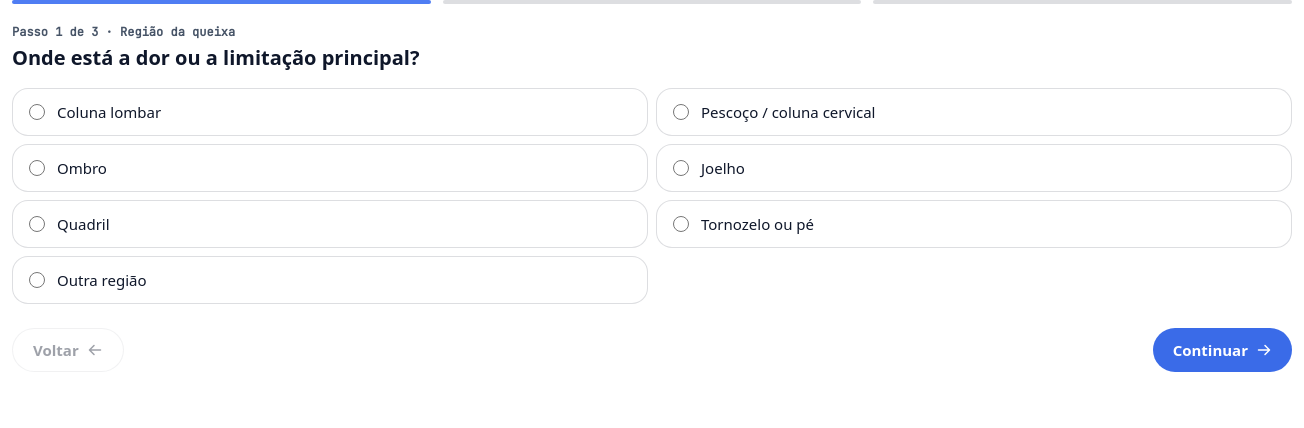
Scenario: <TriageFlow /> › percorre os 3 passos e monta o link do WhatsApp com o resumo
What coordinates should you click on to do the following:
click the radio button labelled "Joelho"
I would click on:
 (681, 168)
Its box is [673,160,689,176].
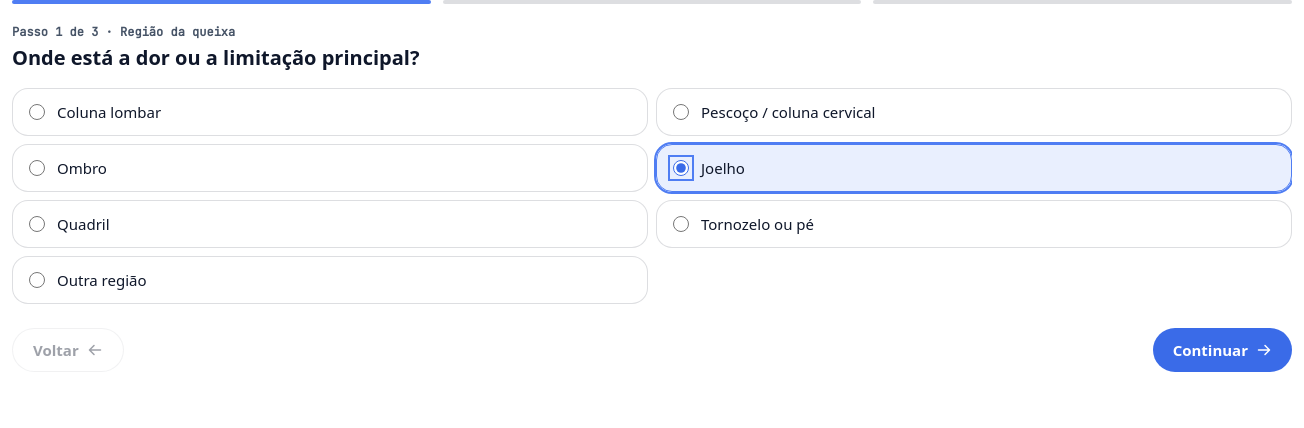
What coordinates should you click on to do the following:
click the button "Continuar"
I would click on:
 (1222, 350)
Its box is [1153,328,1292,372].
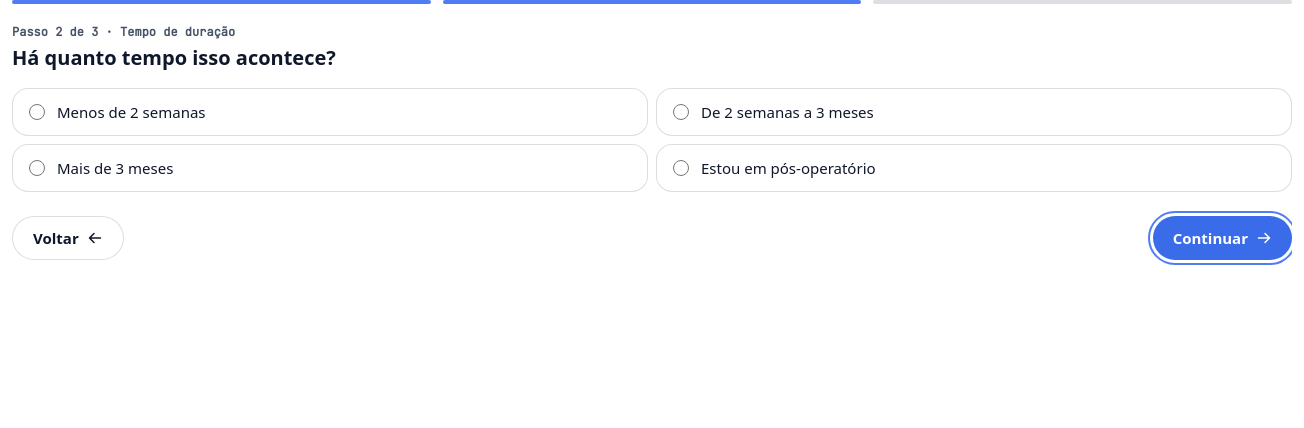
What coordinates should you click on to do the following:
click the radio button labelled "Estou em pós-operatório"
I would click on:
 (681, 168)
Its box is [673,160,689,176].
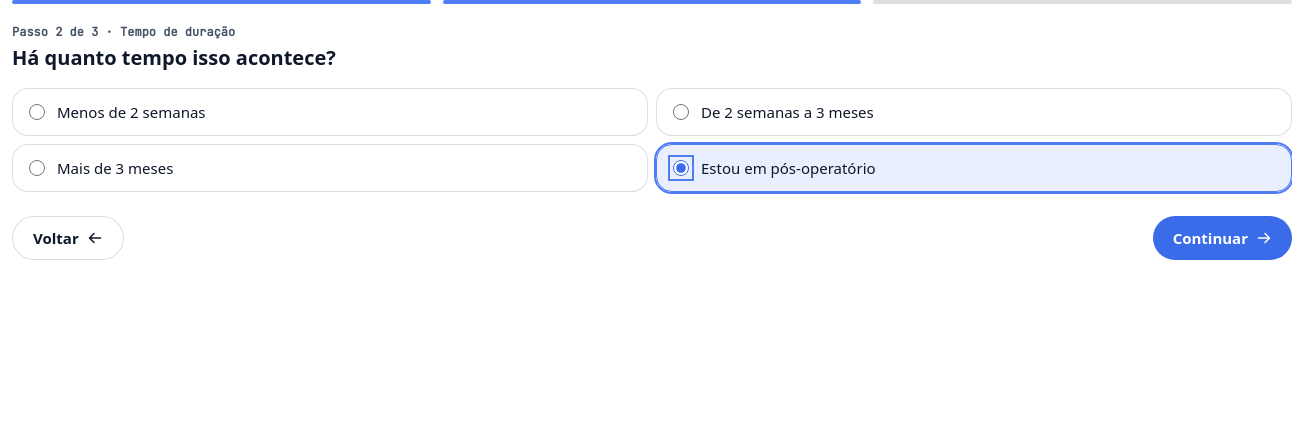
What coordinates should you click on to do the following:
click the button "Continuar"
I would click on:
 (1222, 238)
Its box is [1153,216,1292,260].
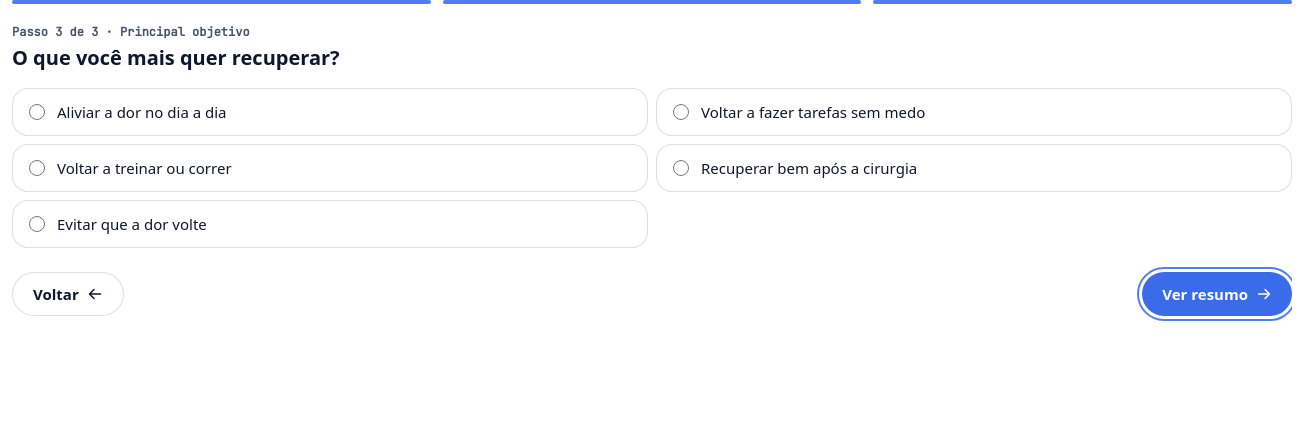
What coordinates should you click on to do the following:
click the radio button labelled "Recuperar bem após a cirurgia"
I would click on:
 (681, 168)
Its box is [673,160,689,176].
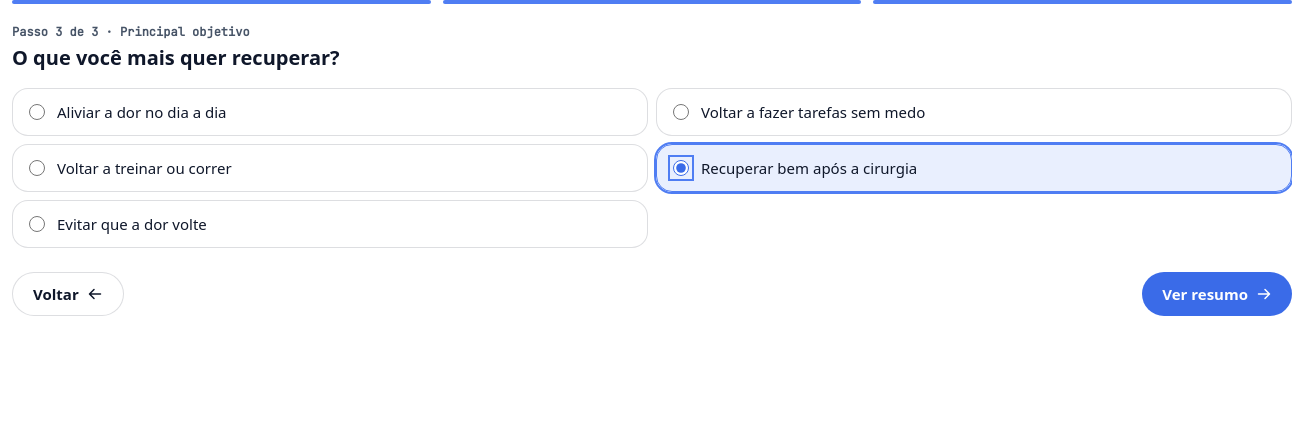
What coordinates should you click on to do the following:
click the button "Ver resumo"
I would click on:
 (1217, 294)
Its box is [1142,272,1292,316].
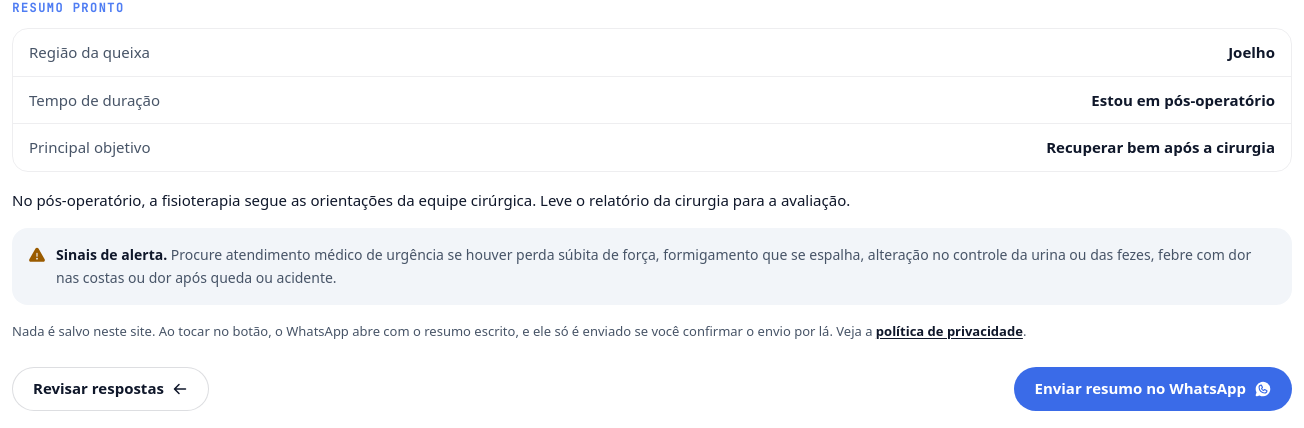
Expected: the list with test id "triage-summary" shows "Joelho", [1228,42,1275,62]
Expected: the list with test id "triage-summary" shows "Estou em pós-operatório", [1091,90,1275,110]
Expected: the text "Nada é salvo neste site" is shown, [12,322,872,340]
